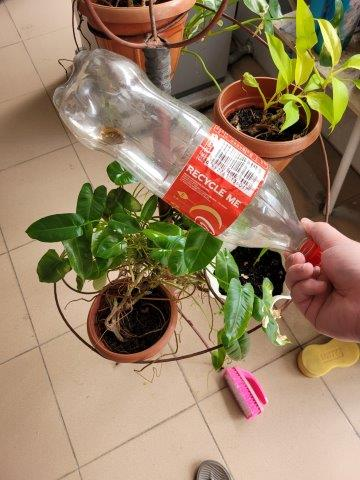botolplastik: (53, 49, 317, 264)
